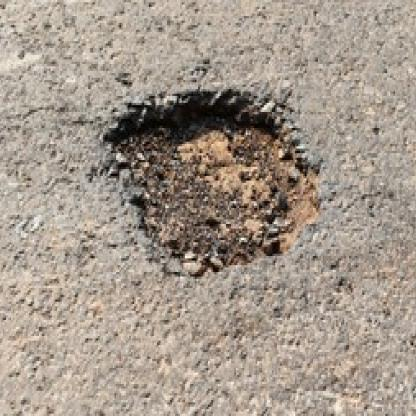pothole: (103, 78, 324, 277)
